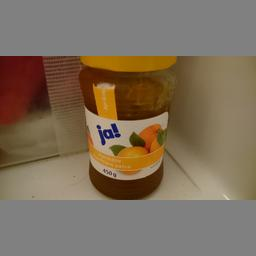jam: (77, 54, 176, 196)
